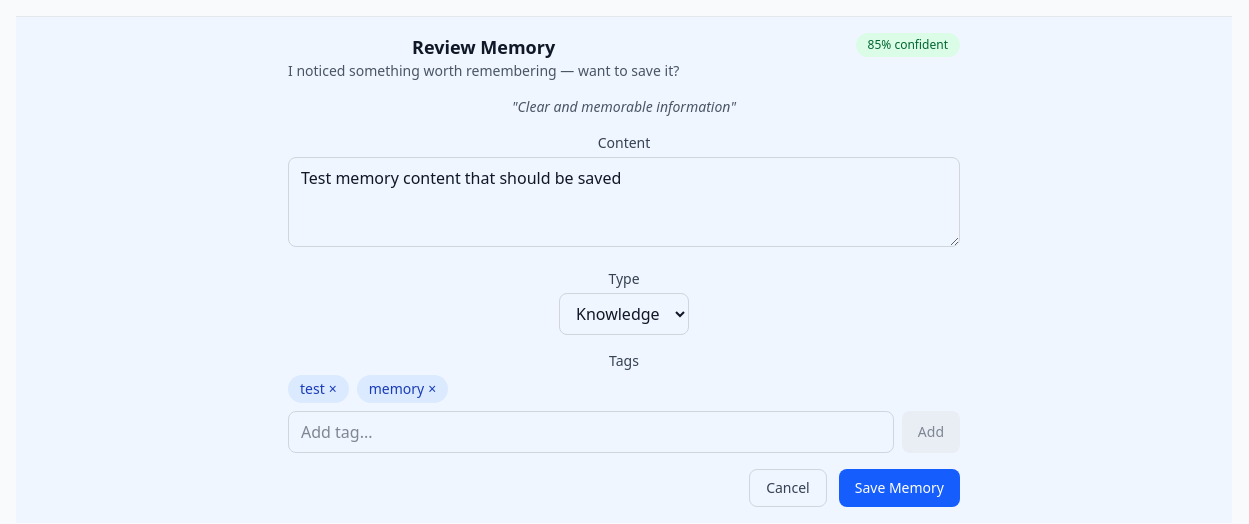
it: MemoryExtraction › disables buttons while saving
Click the button with test id "save-button".
click(899, 488)  # box [839,469,960,507]
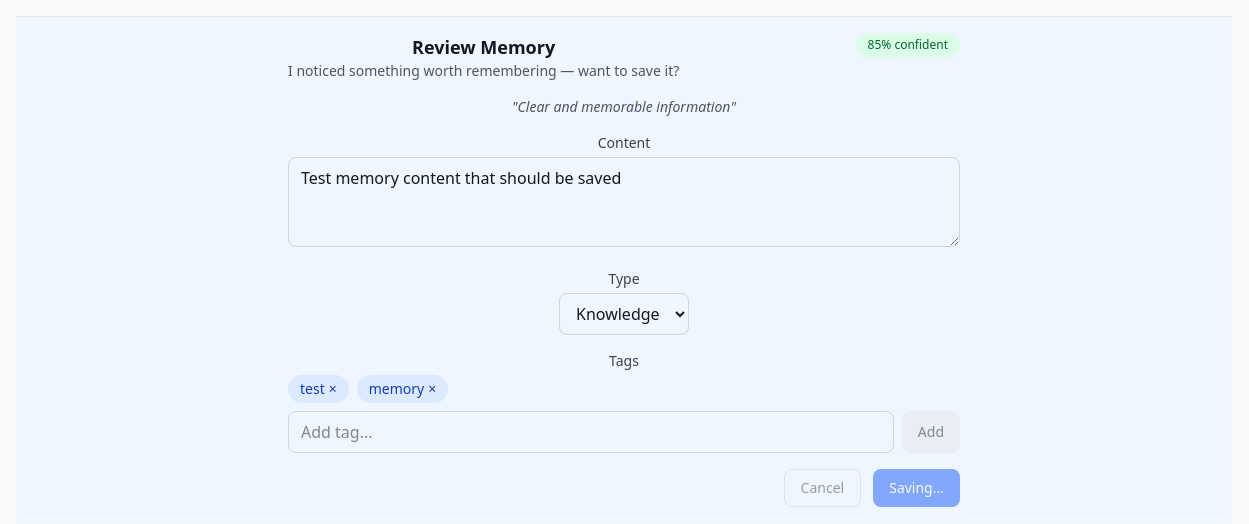
Now the button with test id "save-button" reads "Saving...", box [873,469,960,507]
Now the button with test id "save-button" is disabled, box [873,469,960,507]
Now the button with test id "cancel-button" is disabled, box [784,469,861,507]
